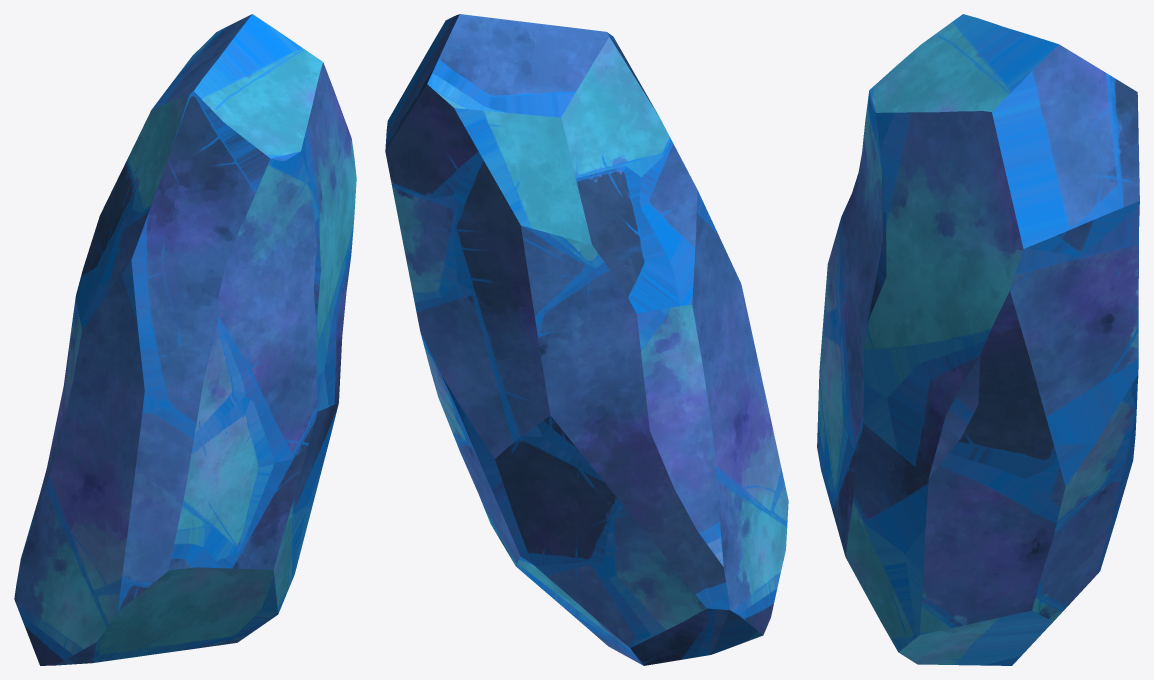
The model's file is crystal.glb.
3 renders of one model, left to right at view 1: azimuth 30°, elevation 25°; view 2: azimuth 150°, elevation 25°; view 3: azimuth 270°, elevation 25°, orthographic. The views are drawn at different scales.
Parts seen in each view (by area): view 1: Crystal_low.002_Crystal_0_fracturepart1, Crystal_low.002_Crystal_0_fracturepart2, Crystal_low.002_Crystal_0_fracturepart4, Crystal_low.002_Crystal_0_fracturepart17, Crystal_low.002_Crystal_0_fracturepart6, Crystal_low.002_Crystal_0_fracturepart3, Crystal_low.002_Crystal_0_fracturepart13, Crystal_low.002_Crystal_0_fracturepart8, Crystal_low.002_Crystal_0_fracturepart10, Crystal_low.002_Crystal_0_fracturepart20, Crystal_low.002_Crystal_0_fracturepart12, Crystal_low.002_Crystal_0_fracturepart9 (+4 smaller); view 2: Crystal_low.002_Crystal_0_fracturepart14, Crystal_low.002_Crystal_0_fracturepart5, Crystal_low.002_Crystal_0_fracturepart3, Crystal_low.002_Crystal_0_fracturepart12, Crystal_low.002_Crystal_0_fracturepart16, Crystal_low.002_Crystal_0_fracturepart2, Crystal_low.002_Crystal_0_fracturepart20, Crystal_low.002_Crystal_0_fracturepart9, Crystal_low.002_Crystal_0_fracturepart17, Crystal_low.002_Crystal_0_fracturepart8, Crystal_low.002_Crystal_0_fracturepart7, Crystal_low.002_Crystal_0_fracturepart6 (+3 smaller); view 3: Crystal_low.002_Crystal_0_fracturepart4, Crystal_low.002_Crystal_0_fracturepart9, Crystal_low.002_Crystal_0_fracturepart8, Crystal_low.002_Crystal_0_fracturepart11, Crystal_low.002_Crystal_0_fracturepart10, Crystal_low.002_Crystal_0_fracturepart15, Crystal_low.002_Crystal_0_fracturepart18, Crystal_low.002_Crystal_0_fracturepart1, Crystal_low.002_Crystal_0_fracturepart20, Crystal_low.002_Crystal_0_fracturepart6, Crystal_low.002_Crystal_0_fracturepart13, Crystal_low.002_Crystal_0_fracturepart7 (+2 smaller).
Boxes of the visible parts, bbox=[...] form: Crystal_low.002_Crystal_0_fracturepart1: bbox=[115, 339, 313, 540]; Crystal_low.002_Crystal_0_fracturepart2: bbox=[84, 184, 252, 345]; Crystal_low.002_Crystal_0_fracturepart4: bbox=[224, 162, 353, 391]; Crystal_low.002_Crystal_0_fracturepart17: bbox=[34, 514, 193, 664]; Crystal_low.002_Crystal_0_fracturepart6: bbox=[116, 115, 309, 249]; Crystal_low.002_Crystal_0_fracturepart3: bbox=[35, 273, 134, 520]; Crystal_low.002_Crystal_0_fracturepart13: bbox=[160, 510, 291, 622]; Crystal_low.002_Crystal_0_fracturepart8: bbox=[203, 14, 343, 131]; Crystal_low.002_Crystal_0_fracturepart10: bbox=[232, 373, 340, 537]; Crystal_low.002_Crystal_0_fracturepart20: bbox=[143, 45, 299, 156]; Crystal_low.002_Crystal_0_fracturepart12: bbox=[14, 510, 62, 665]; Crystal_low.002_Crystal_0_fracturepart9: bbox=[306, 118, 356, 227]; Crystal_low.002_Crystal_0_fracturepart14: bbox=[418, 290, 655, 529]; Crystal_low.002_Crystal_0_fracturepart5: bbox=[442, 126, 630, 312]; Crystal_low.002_Crystal_0_fracturepart3: bbox=[630, 256, 761, 515]; Crystal_low.002_Crystal_0_fracturepart12: bbox=[579, 512, 772, 665]; Crystal_low.002_Crystal_0_fracturepart16: bbox=[401, 69, 553, 195]; Crystal_low.002_Crystal_0_fracturepart2: bbox=[620, 117, 726, 288]; Crystal_low.002_Crystal_0_fracturepart20: bbox=[499, 21, 624, 144]; Crystal_low.002_Crystal_0_fracturepart9: bbox=[385, 95, 475, 321]; Crystal_low.002_Crystal_0_fracturepart17: bbox=[714, 421, 788, 608]; Crystal_low.002_Crystal_0_fracturepart8: bbox=[385, 14, 519, 152]; Crystal_low.002_Crystal_0_fracturepart7: bbox=[506, 525, 614, 649]; Crystal_low.002_Crystal_0_fracturepart6: bbox=[600, 36, 659, 211]; Crystal_low.002_Crystal_0_fracturepart4: bbox=[840, 146, 1087, 452]; Crystal_low.002_Crystal_0_fracturepart9: bbox=[893, 115, 1139, 388]; Crystal_low.002_Crystal_0_fracturepart8: bbox=[903, 32, 1139, 212]; Crystal_low.002_Crystal_0_fracturepart11: bbox=[884, 473, 1119, 627]; Crystal_low.002_Crystal_0_fracturepart10: bbox=[834, 396, 983, 560]; Crystal_low.002_Crystal_0_fracturepart15: bbox=[967, 385, 1126, 507]; Crystal_low.002_Crystal_0_fracturepart18: bbox=[868, 561, 1001, 664]; Crystal_low.002_Crystal_0_fracturepart1: bbox=[818, 234, 862, 443]; Crystal_low.002_Crystal_0_fracturepart20: bbox=[908, 14, 1019, 106]; Crystal_low.002_Crystal_0_fracturepart6: bbox=[863, 38, 930, 178]; Crystal_low.002_Crystal_0_fracturepart13: bbox=[817, 416, 879, 597]; Crystal_low.002_Crystal_0_fracturepart7: bbox=[966, 543, 1108, 665].
Size of the model in its own units: 0.7093 by 1.2 by 0.5045.
1 material, 1 textured.
